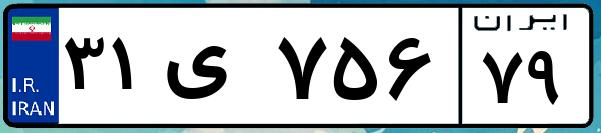1: (110, 28, 158, 98)
3: (57, 26, 110, 100)
5: (330, 28, 385, 110)
6: (385, 28, 445, 110)
7: (270, 28, 330, 110), (475, 38, 525, 113)
9: (525, 38, 570, 115)
ی: (158, 20, 270, 120)
